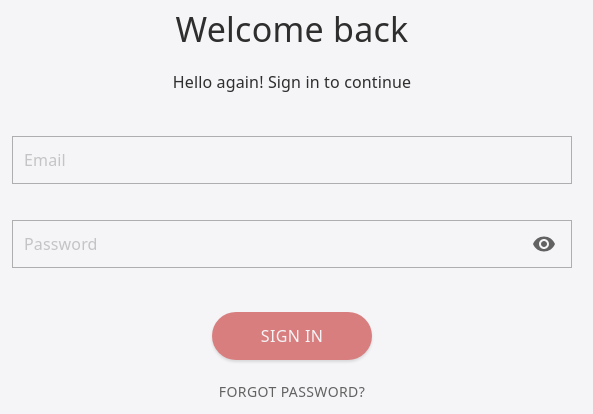
Test case: SignInPage › valid data includes the submit button
Step 1. Type "a@b.co" into the field labelled "Email" → (292, 160), box [12,136,572,184]
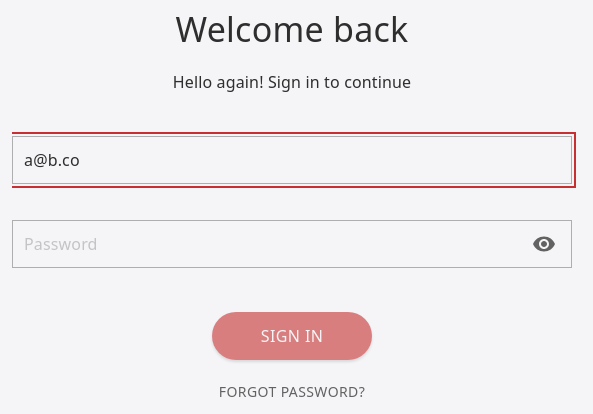
Step 2. Type "secret1" into the password field labelled "Password" → (292, 244), box [12,220,572,268]
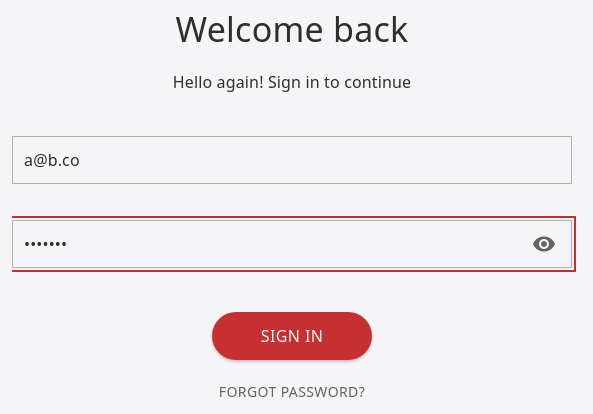
Result: the button "Sign in" is enabled at [212,312,372,360]
